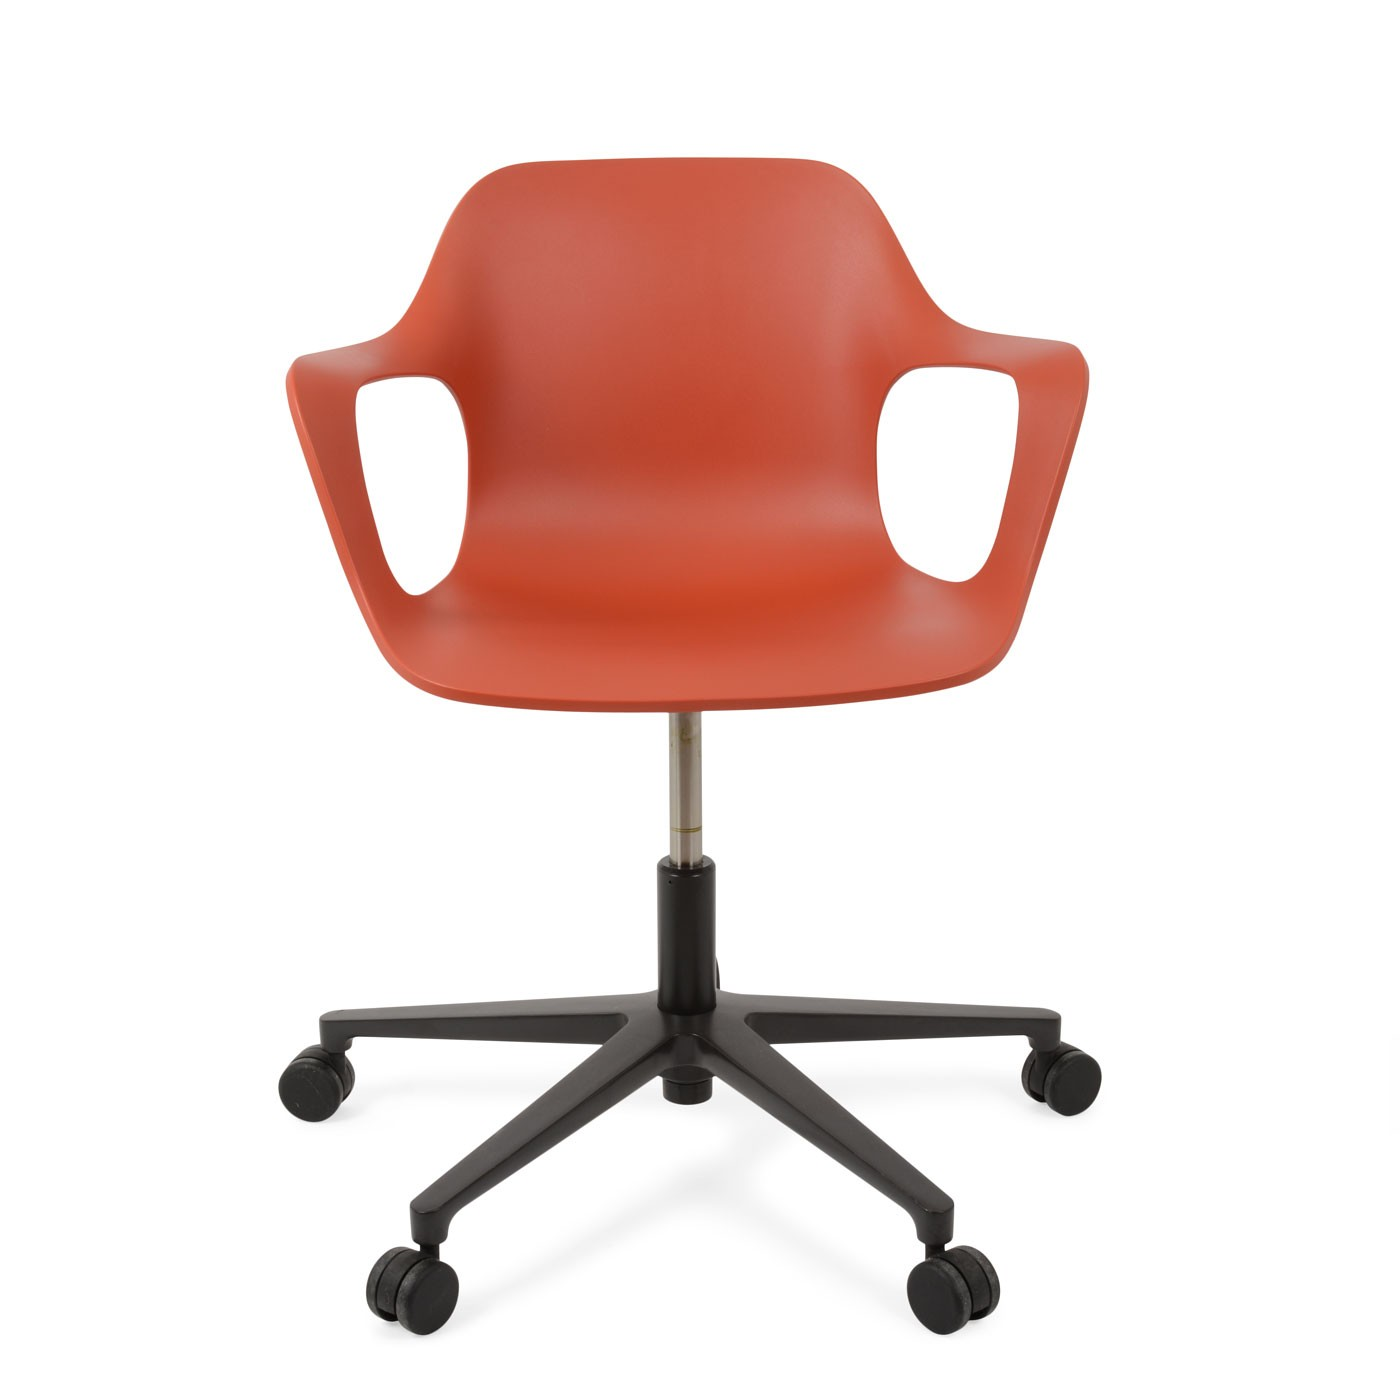chairs: (265, 151, 1103, 1338)
